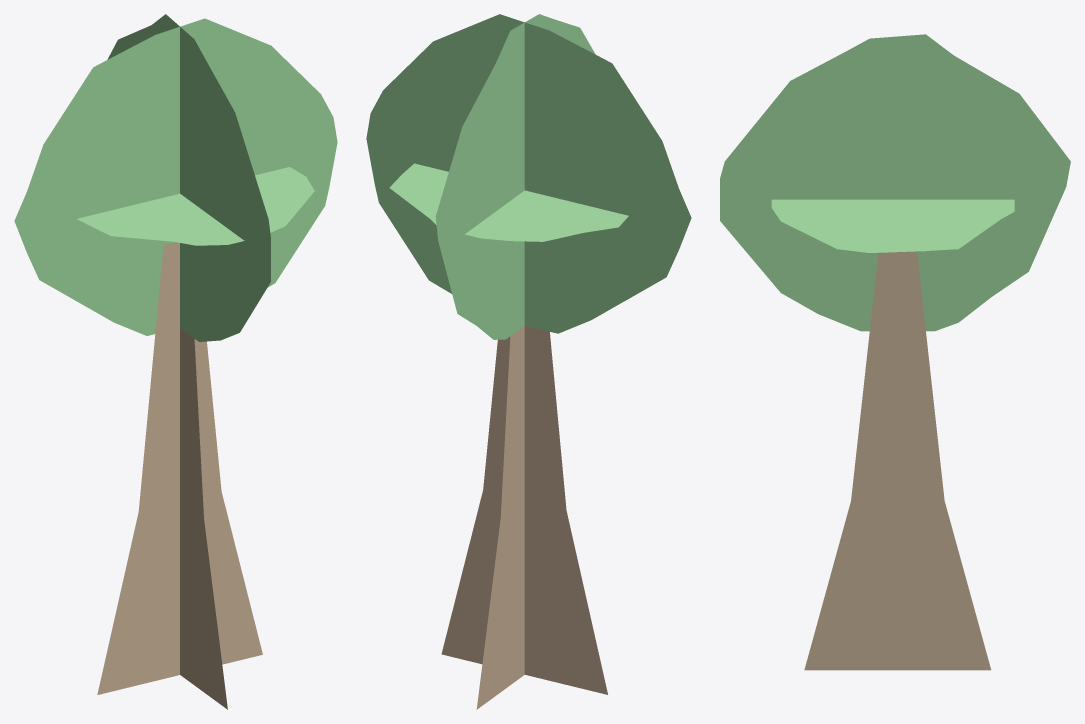
Rendered from tre4.glb.
3 renders of one model, left to right at view 1: azimuth 30°, elevation 25°; view 2: azimuth 150°, elevation 25°; view 3: azimuth 270°, elevation 25°, orthographic. The views are drawn at different scales.
Visible parts, largest first — view 1: tre4; view 2: tre4; view 3: tre4.
Part boxes in pixels (box(x1,y1,x2,y2)): tre4: box(14, 14, 337, 709); tre4: box(366, 14, 691, 709); tre4: box(720, 34, 1070, 670).
Bounding box in the file's own units: 3.12 × 6 × 3.
